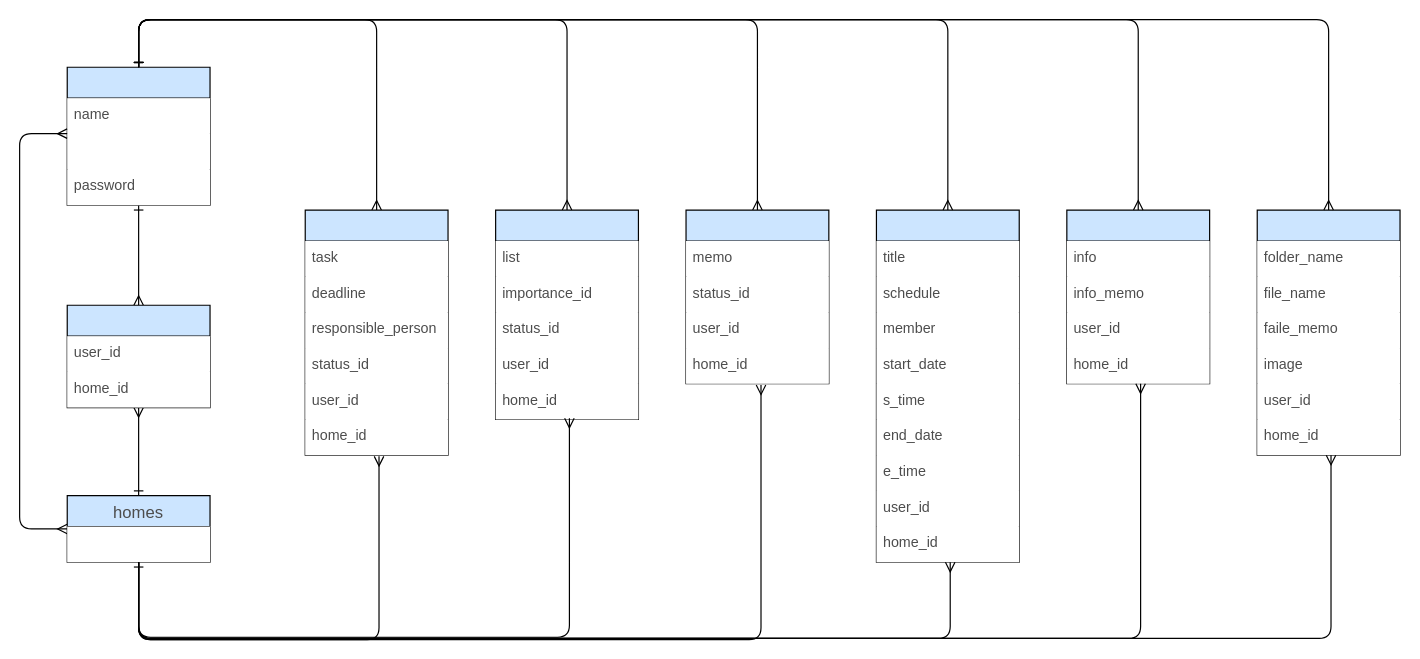
Image size: 1420x659. Some labels were removed from this diagram. The box of each missing label's shape, as (x1, y1, x2, y2) in pixels:
calendars: (875, 209, 1019, 562)
email: (67, 133, 209, 169)
home_name: (67, 526, 209, 562)
home_users: (66, 304, 210, 408)
informations: (1066, 209, 1210, 384)
lists: (494, 209, 638, 419)
memos: (685, 209, 829, 384)
storehouses: (1256, 209, 1400, 455)
tasks: (304, 209, 448, 455)
users: (66, 66, 210, 205)
